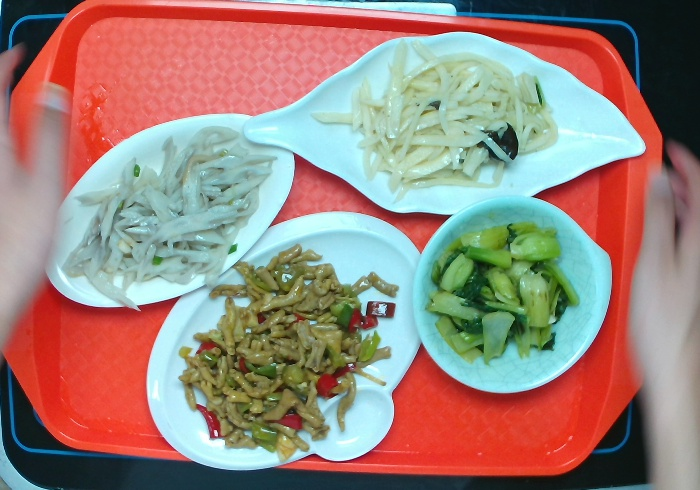RJxy-Bai_Se_Tuo_Yuan: (43, 112, 292, 311)
RJxy-Shu_Ye_Pan: (239, 27, 648, 218)
RJxy-Xiao_Jiao_Yuan_Wan: (411, 193, 614, 394)
RJxy-Zhan_Liao_Pan: (143, 209, 423, 472)
